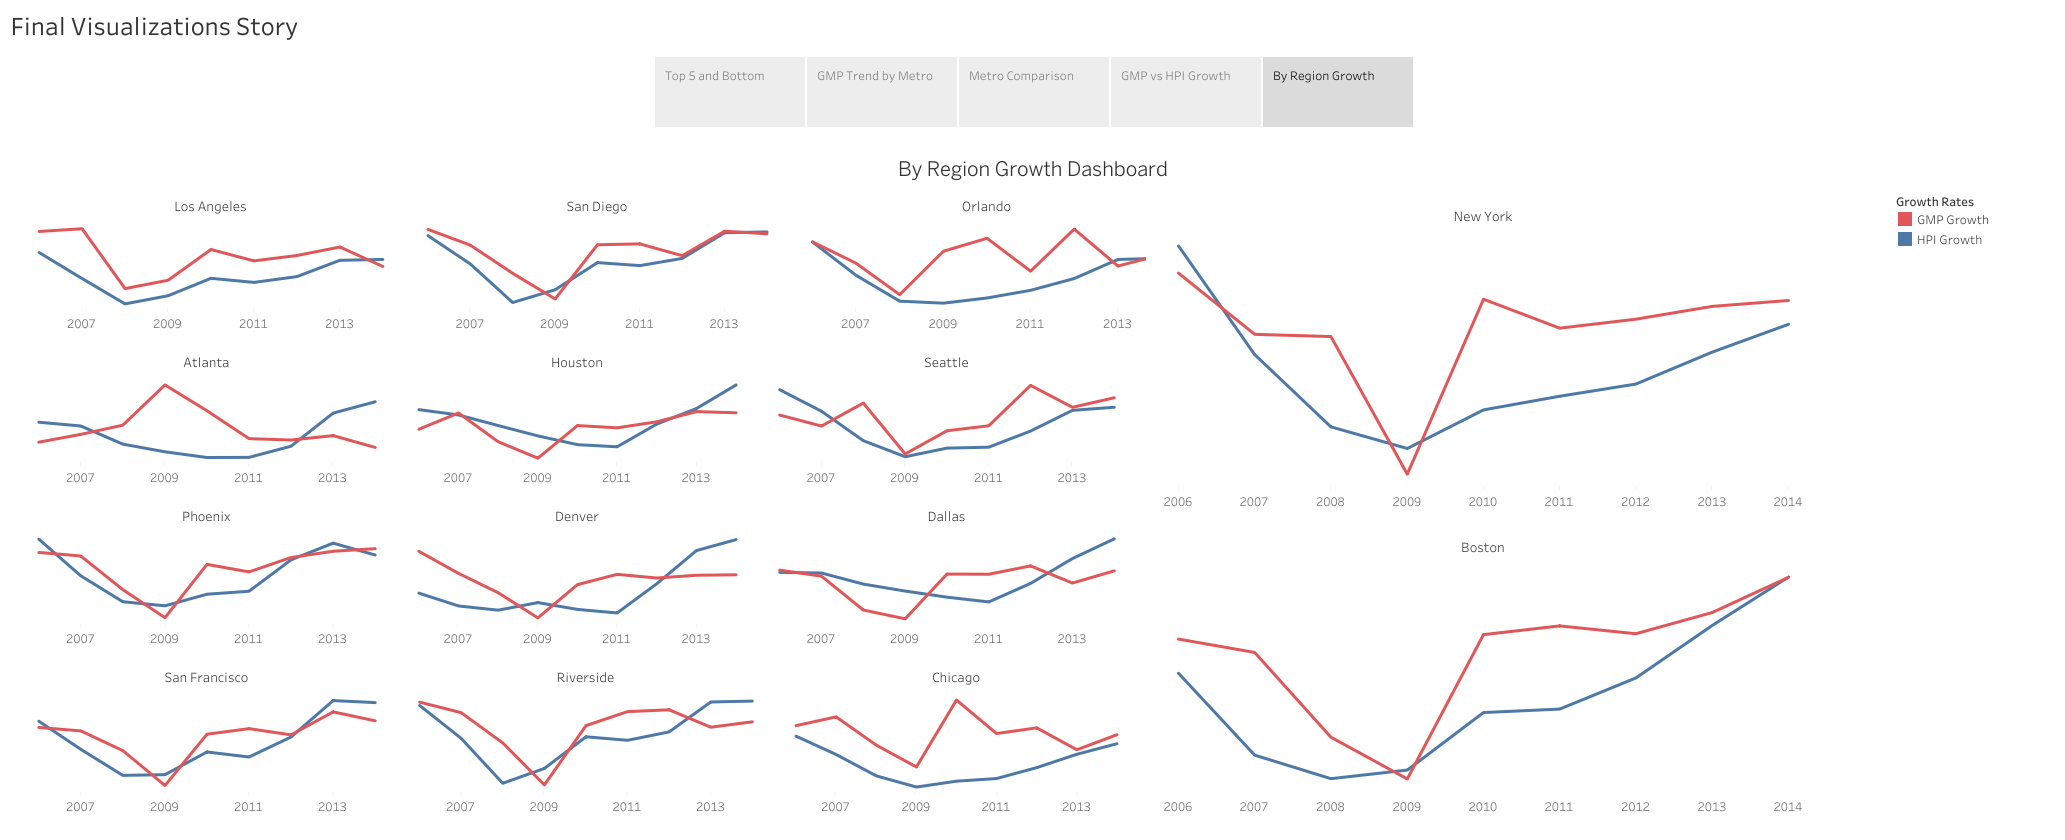

This screenshot's page, from the dashboard's own definition file:
{"tool":"tableau","page":{"name":"GMP Growth vs HPI Growth By Region","canvas":[1000,1000],"units":"permille","ordinal":3},"visuals":[{"type":"title","box":[7.1,10.9,985.8,79.2]},{"type":"worksheet","title":"New York","mark":"Automatic","rows":["hpi_growth_pct"],"cols":["Date"],"box":[553,75.6,332.9,476.2]},{"type":"worksheet","title":"Los Angeles","mark":"Automatic","rows":["hpi_growth_pct"],"cols":["Date"],"box":[7.1,90.2,175.3,219.9]},{"type":"worksheet","title":"San Diego","mark":"Automatic","rows":["hpi_growth_pct"],"cols":["Date"],"box":[182.4,90.2,173,219.9]},{"type":"worksheet","title":"Orlando","mark":"Automatic","rows":["hpi_growth_pct"],"cols":["Date"],"box":[355.4,90.2,177.8,219.9]},{"type":"legend","title":"Los Angeles","param":"[federated.0neb5o51ny1kbg1dho3cj0hr51z0].[:Measure Names]","box":[851.4,90.2,141.5,114.8]},{"type":"worksheet","title":"Atlanta","mark":"Automatic","rows":["hpi_growth_pct"],"cols":["Date"],"box":[7.1,310.1,184.8,216.8]},{"type":"worksheet","title":"Houston","mark":"Automatic","rows":["hpi_growth_pct"],"cols":["Date"],"box":[191.9,310.1,174.5,216.8]},{"type":"worksheet","title":"Seattle","mark":"Automatic","rows":["hpi_growth_pct"],"cols":["Date"],"box":[366.4,310.1,183.6,216.8]},{"type":"worksheet","title":"Phoenix","mark":"Automatic","rows":["hpi_growth_pct"],"cols":["Date"],"box":[7.1,526.9,184.8,226.3]},{"type":"worksheet","title":"Denver","mark":"Automatic","rows":["hpi_growth_pct"],"cols":["Date"],"box":[191.9,527,174.5,226.2]},{"type":"worksheet","title":"Dallas","mark":"Automatic","rows":["hpi_growth_pct"],"cols":["Date"],"box":[366.4,527,183.6,226.2]},{"type":"worksheet","title":"Boston","mark":"Automatic","rows":["hpi_growth_pct"],"cols":["Date"],"box":[553,556.2,332.9,432]},{"type":"worksheet","title":"San Francisco","mark":"Automatic","rows":["hpi_growth_pct"],"cols":["Date"],"box":[7.1,753.2,184.8,235.9]},{"type":"worksheet","title":"Riverside","mark":"Automatic","rows":["hpi_growth_pct"],"cols":["Date"],"box":[191.9,753.2,182.4,235.9]},{"type":"worksheet","title":"Chicago","mark":"Automatic","rows":["hpi_growth_pct"],"cols":["Date"],"box":[374.3,753.2,176.4,235.9]}]}

Visuals, with their boxes on the dashboard's canvas, which has no fixed pixel size, in thousandths of its width and height (x1, y1, x2, y2). These are canvas units, not pixel positions in the 2065x840 screenshot, which may show the page scaled, cropped or inside an application window:
title: {"left": 7, "top": 11, "right": 993, "bottom": 90}
"New York" worksheet: {"left": 553, "top": 76, "right": 886, "bottom": 552}
"Los Angeles" worksheet: {"left": 7, "top": 90, "right": 182, "bottom": 310}
"San Diego" worksheet: {"left": 182, "top": 90, "right": 355, "bottom": 310}
"Orlando" worksheet: {"left": 355, "top": 90, "right": 533, "bottom": 310}
"Los Angeles" legend: {"left": 851, "top": 90, "right": 993, "bottom": 205}
"Atlanta" worksheet: {"left": 7, "top": 310, "right": 192, "bottom": 527}
"Houston" worksheet: {"left": 192, "top": 310, "right": 366, "bottom": 527}
"Seattle" worksheet: {"left": 366, "top": 310, "right": 550, "bottom": 527}
"Phoenix" worksheet: {"left": 7, "top": 527, "right": 192, "bottom": 753}
"Denver" worksheet: {"left": 192, "top": 527, "right": 366, "bottom": 753}
"Dallas" worksheet: {"left": 366, "top": 527, "right": 550, "bottom": 753}
"Boston" worksheet: {"left": 553, "top": 556, "right": 886, "bottom": 988}
"San Francisco" worksheet: {"left": 7, "top": 753, "right": 192, "bottom": 989}
"Riverside" worksheet: {"left": 192, "top": 753, "right": 374, "bottom": 989}
"Chicago" worksheet: {"left": 374, "top": 753, "right": 551, "bottom": 989}
